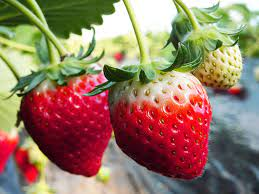ripe: (114, 66, 218, 184), (17, 62, 117, 178), (1, 124, 16, 180)
unripe: (177, 28, 243, 93)
